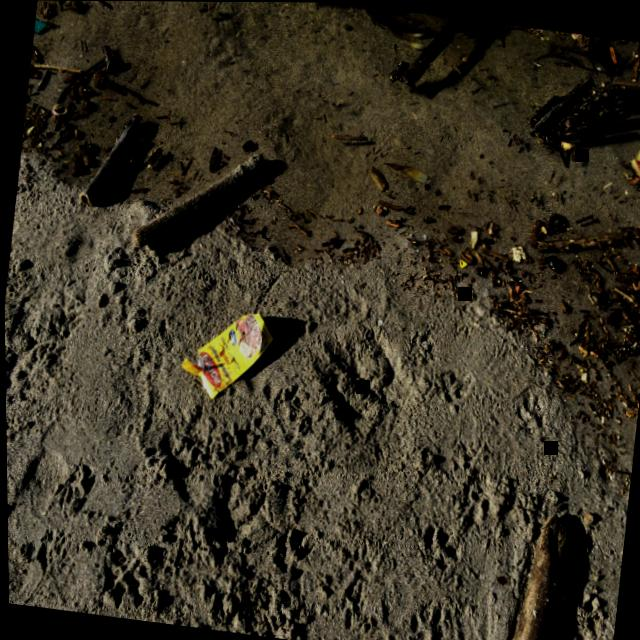Other plastic: (180, 313, 271, 399)
Styrofoam piece: (511, 245, 525, 262)
